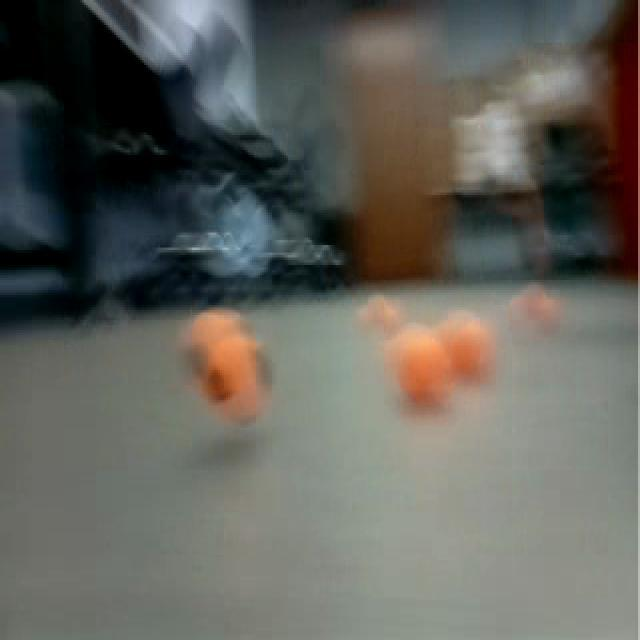oball: (188, 313, 276, 430), (392, 322, 452, 408), (446, 307, 500, 376)
